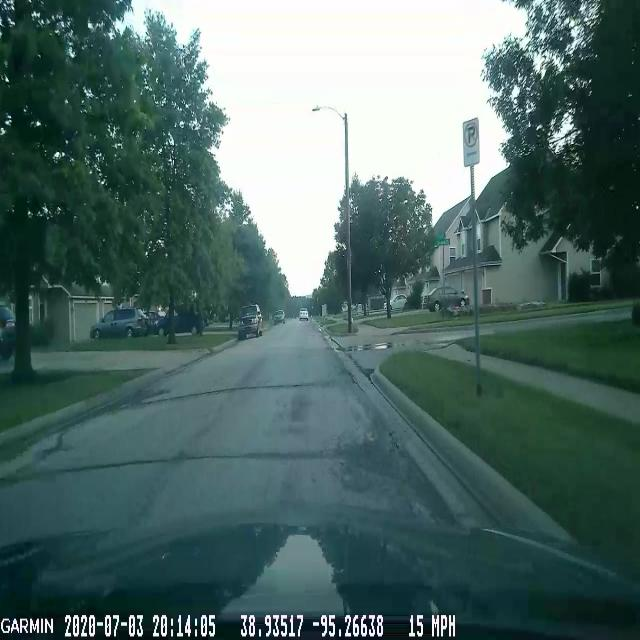Pothole: (333, 412, 417, 508)
